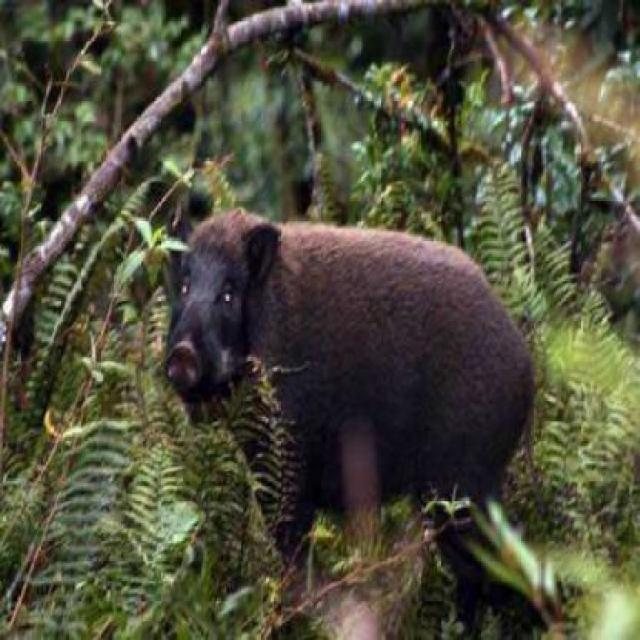pig: (157, 148, 575, 553)
